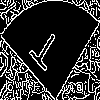T: (24, 25, 62, 80)
